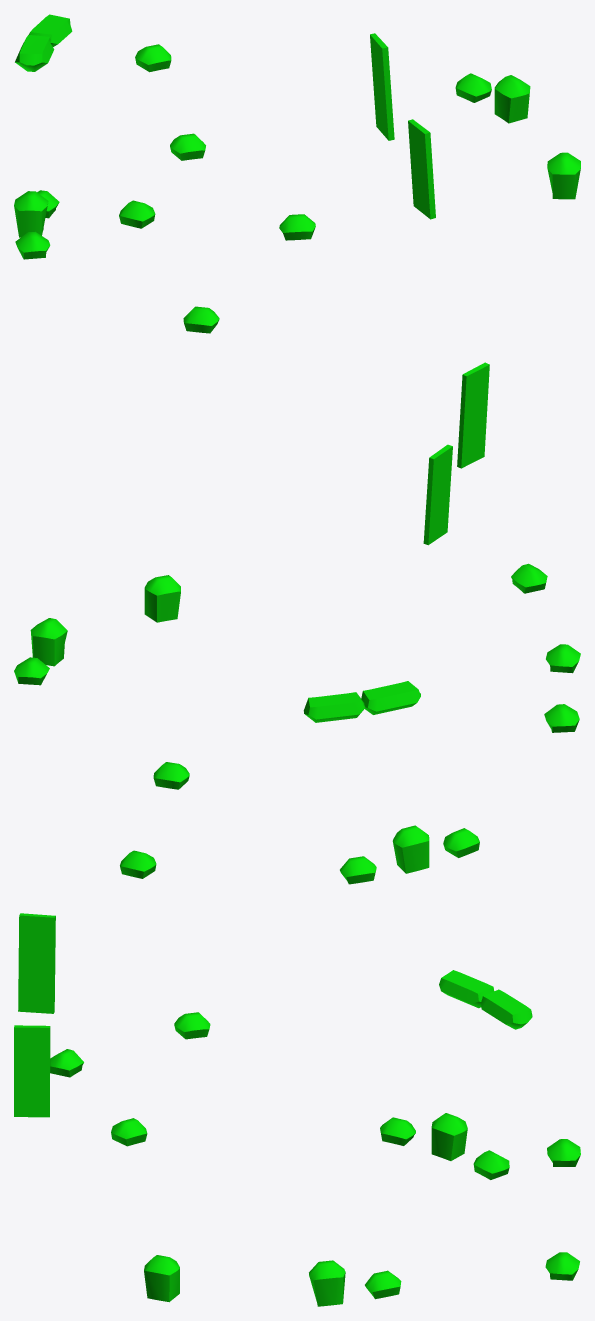
File: Level1Killzone.fbx
3 renders of one model, top to bottom at view 1: azimuth 30°, elevation 25°; view 2: azimuth 150°, elevation 25°; view 3: azimuth 270°, elevation 25°, orthographic.
Parts seen in each view (by area): view 1: Level1Killzone; view 2: Level1Killzone; view 3: Level1Killzone.
Boxes of the visible parts, x1,y1,x2,y2 form: Level1Killzone: [14, 14, 580, 333]; Level1Killzone: [14, 362, 580, 884]; Level1Killzone: [14, 913, 580, 1306].
Bounding box in the file's own units: 10297 × 6731 × 10651.
